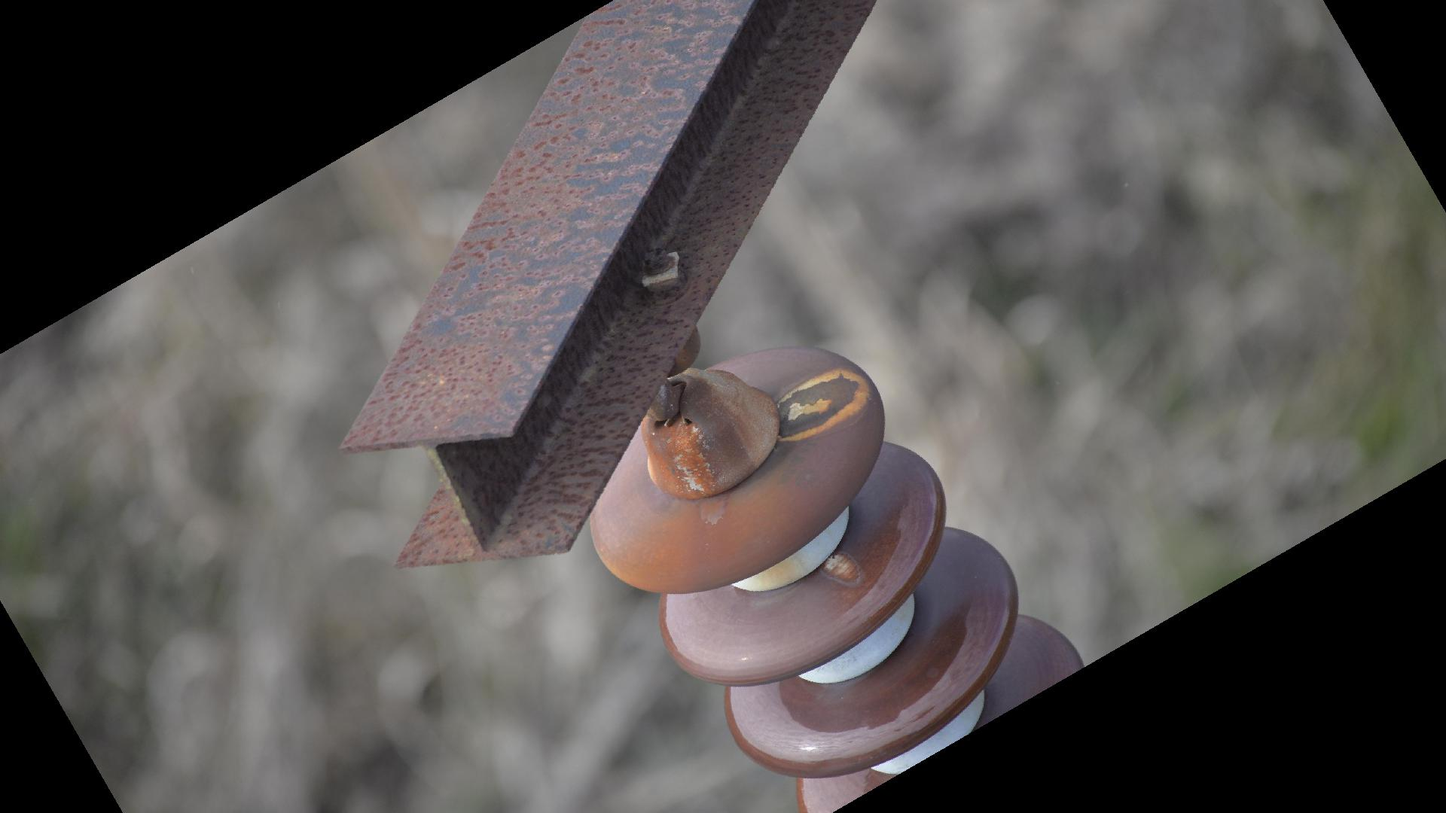insulator: (576, 338, 1094, 813)
insulator_flashover: (772, 365, 870, 446), (816, 546, 865, 589)
